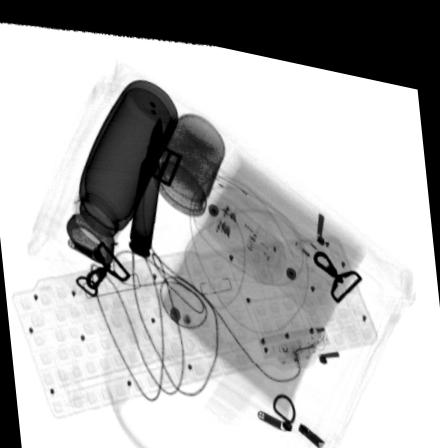Bullet: (128, 107, 165, 253)
